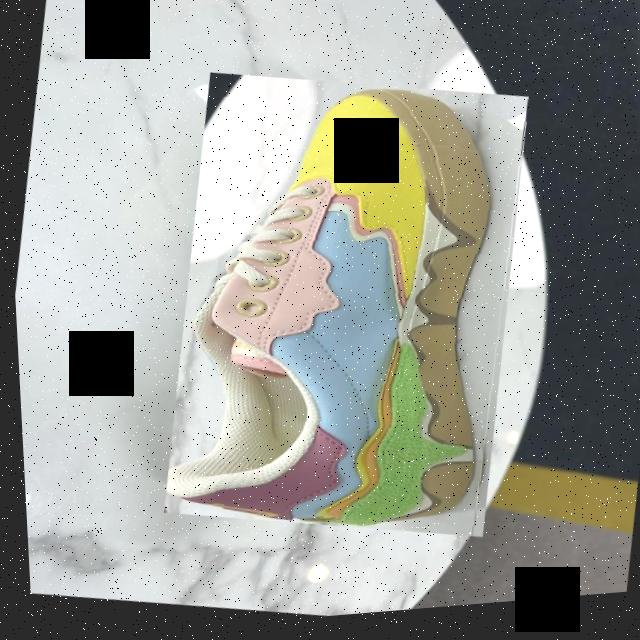shoe: (141, 56, 546, 565)
